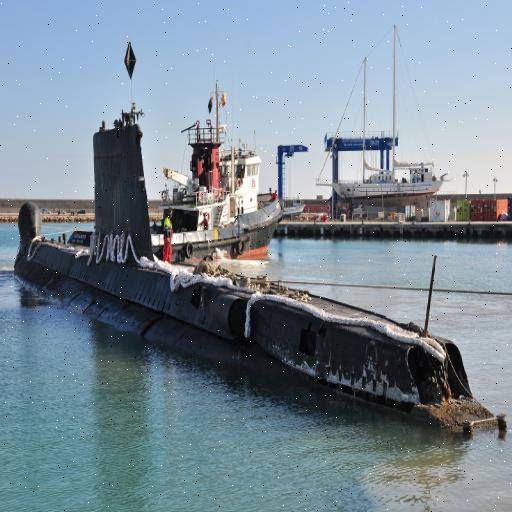submarine: (1, 116, 510, 437)
